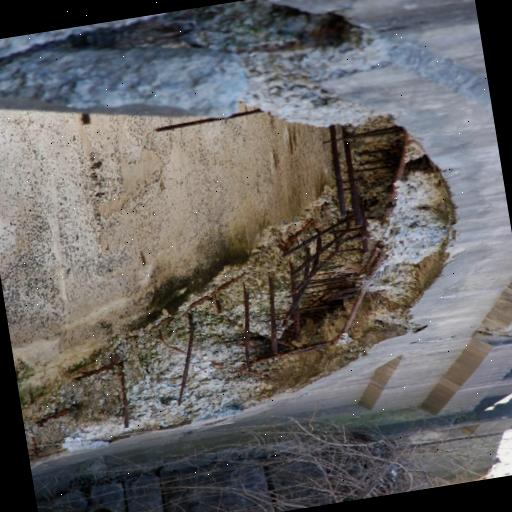spalling: (25, 130, 452, 465)
